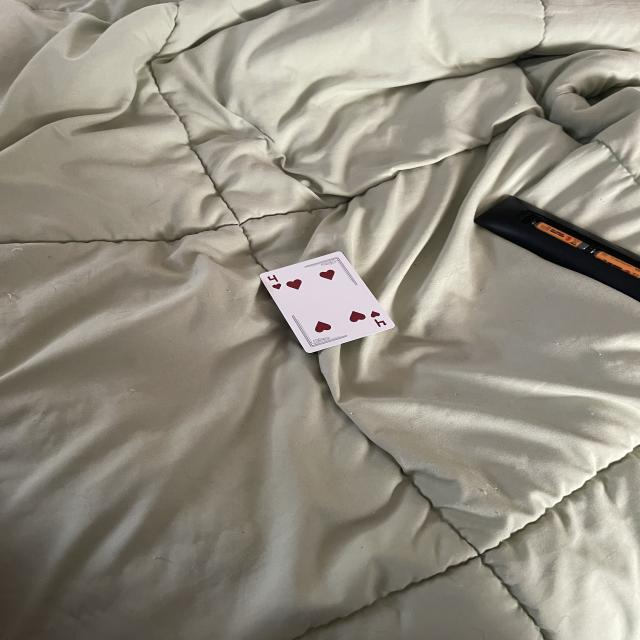4 of hearts: (261, 249, 397, 356)
